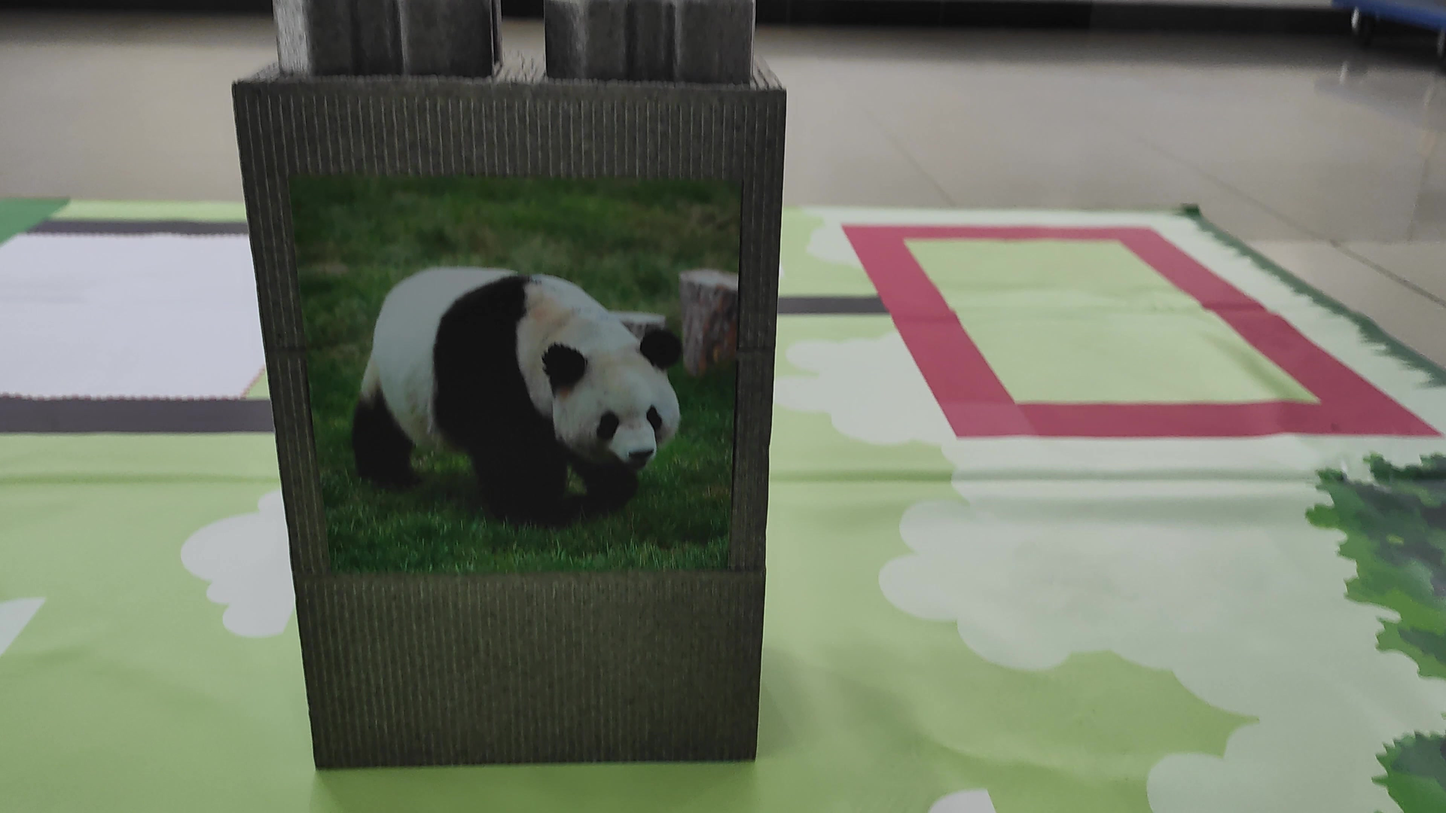panda: (339, 229, 712, 533)
